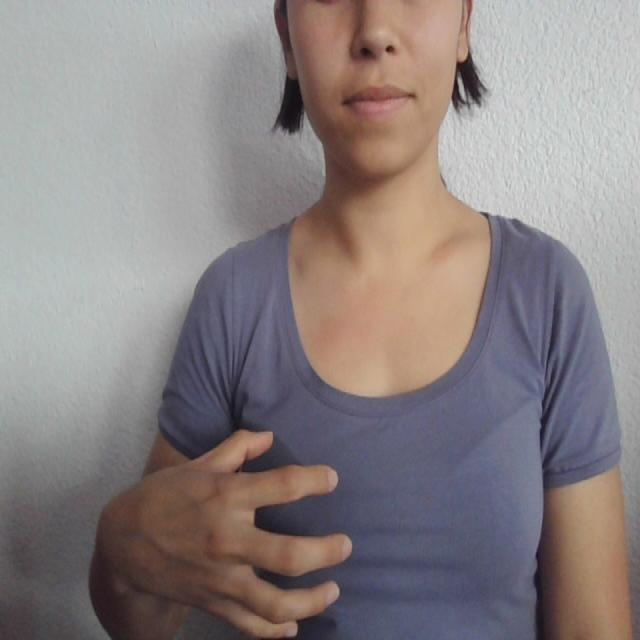Anne: (121, 408, 553, 640)
